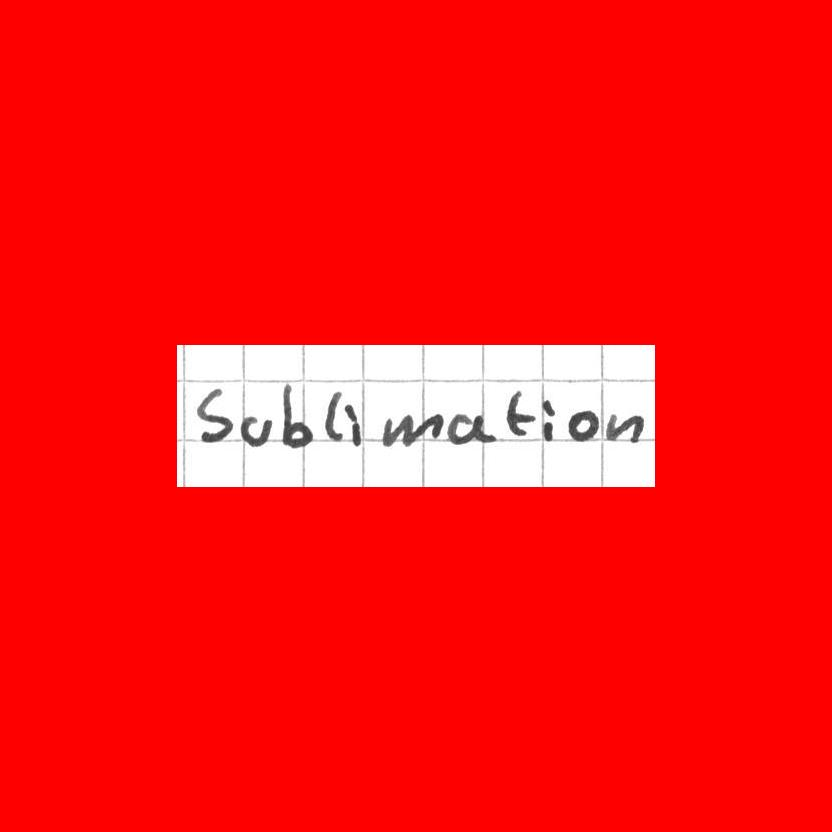Char: (279, 380, 317, 450), (194, 385, 235, 446), (380, 412, 444, 449), (444, 412, 500, 446), (501, 386, 537, 437), (602, 410, 648, 447), (238, 412, 272, 451), (565, 406, 600, 443), (323, 388, 344, 444), (339, 400, 360, 449), (541, 396, 559, 444)
